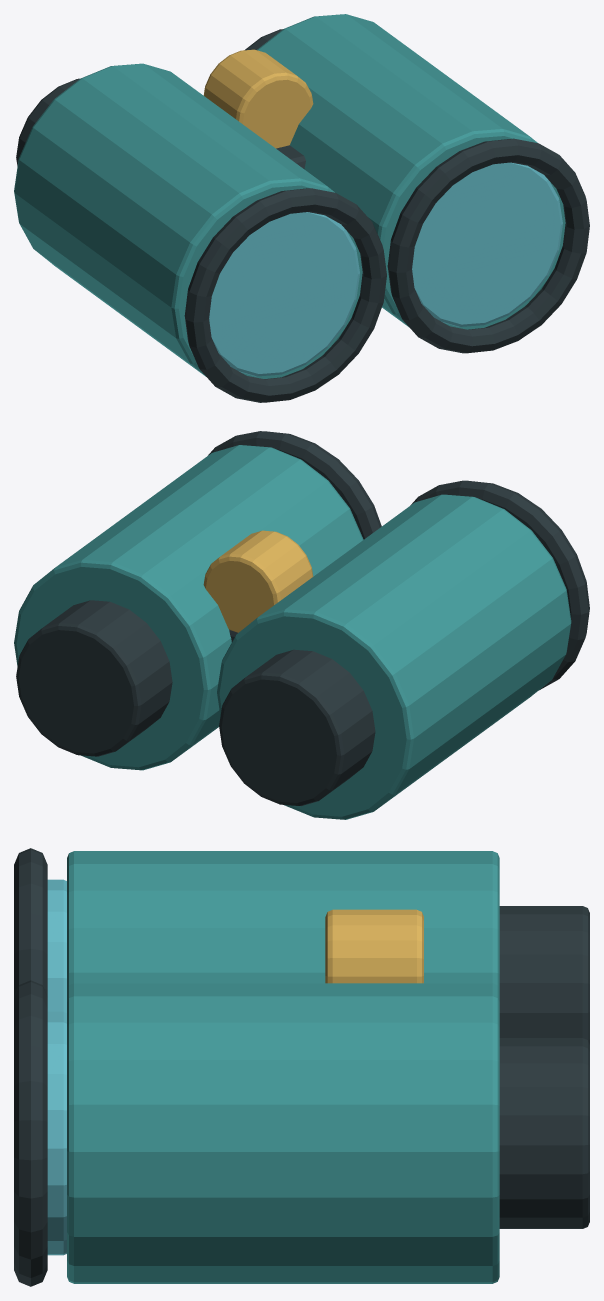
The model's file is P019_binoculars.glb.
The picture shows the model from 3 angles, top to bottom: view 1: azimuth 30°, elevation 25°; view 2: azimuth 150°, elevation 25°; view 3: azimuth 270°, elevation 25°; orthographic projection. The views are drawn at different scales.
Parts seen in each view (by area): view 1: P019_barrel_001, P019_barrel_005, P019_lens_003, P019_lens_007, P019_front_ring_008, P019_front_ring_004, P019_focus_010, P019_eyepiece_002; view 2: P019_barrel_001, P019_barrel_005, P019_eyepiece_006, P019_eyepiece_002, P019_focus_010, P019_front_ring_004, P019_front_ring_008; view 3: P019_barrel_005, P019_barrel_001, P019_eyepiece_006, P019_eyepiece_002, P019_front_ring_008, P019_focus_010, P019_lens_007, P019_front_ring_004, P019_lens_003.
Boxes of the visible parts, left/top/right/bottom form: P019_barrel_001: left=14, top=63, right=362, bottom=378; P019_barrel_005: left=257, top=14, right=565, bottom=329; P019_lens_003: left=209, top=212, right=359, bottom=376; P019_lens_007: left=412, top=162, right=562, bottom=326; P019_front_ring_008: left=387, top=138, right=589, bottom=353; P019_front_ring_004: left=184, top=188, right=386, bottom=402; P019_focus_010: left=203, top=49, right=313, bottom=148; P019_eyepiece_002: left=16, top=78, right=79, bottom=166; P019_barrel_001: left=217, top=494, right=571, bottom=819; P019_barrel_005: left=14, top=445, right=363, bottom=770; P019_eyepiece_006: left=16, top=600, right=172, bottom=756; P019_eyepiece_002: left=219, top=649, right=375, bottom=805; P019_focus_010: left=203, top=530, right=313, bottom=632; P019_front_ring_004: left=410, top=480, right=589, bottom=690; P019_front_ring_008: left=208, top=431, right=381, bottom=539; P019_barrel_005: left=67, top=983, right=499, bottom=1283; P019_barrel_001: left=67, top=851, right=499, bottom=989; P019_eyepiece_006: left=499, top=1038, right=589, bottom=1228; P019_eyepiece_002: left=499, top=906, right=589, bottom=1044; P019_front_ring_008: left=14, top=980, right=47, bottom=1286; P019_focus_010: left=325, top=909, right=423, bottom=983; P019_lens_007: left=47, top=1011, right=66, bottom=1255; P019_front_ring_004: left=14, top=848, right=47, bottom=996; P019_lens_003: left=47, top=879, right=66, bottom=1012.
Size of the model in its own units: 0.258 by 0.134 by 0.2395.
